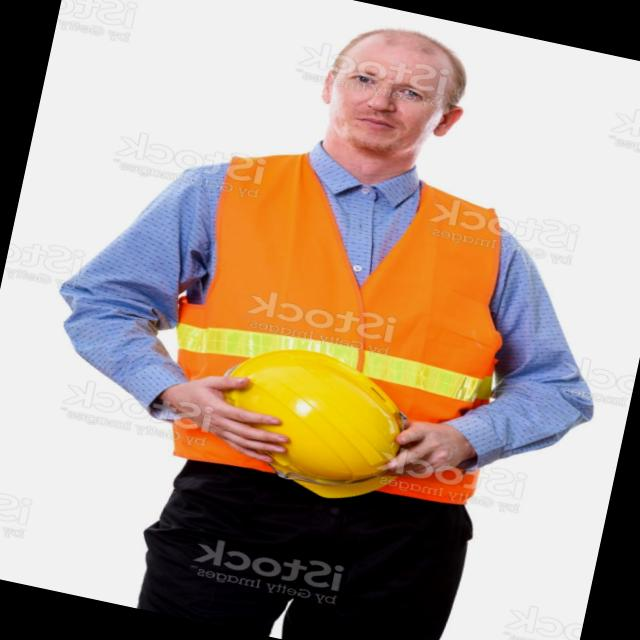no-goggles: (325, 58, 456, 114)
no-helmet: (324, 0, 496, 100)
vest: (147, 127, 550, 522)
